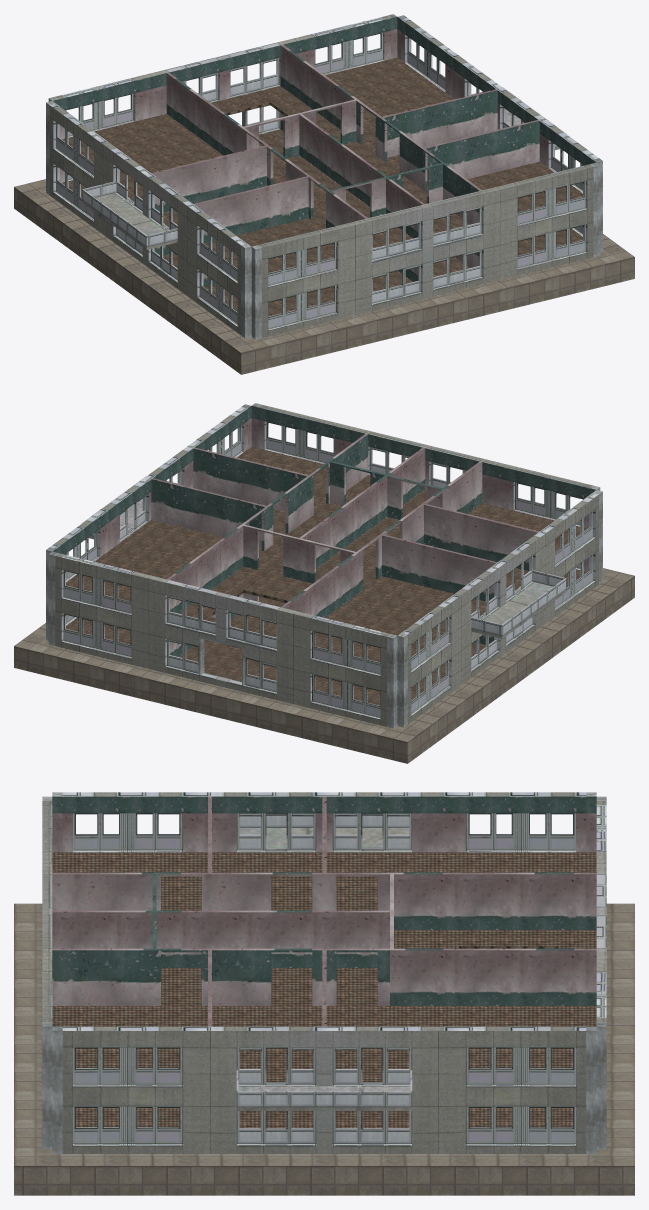
The model's file is BagSS10base_500.fbx.
3 renders of one model, top to bottom at view 1: azimuth 30°, elevation 25°; view 2: azimuth 150°, elevation 25°; view 3: azimuth 270°, elevation 25°, orthographic. The views are drawn at different scales.
Parts seen in each view (by area): view 1: baseMain500, baseWalls500, baseFound500, baseFloor500, baseCrete500; view 2: baseMain500, baseWalls500, baseFloor500, baseFound500, baseCrete500; view 3: baseWalls500, baseMain500, baseFloor500, baseFound500, baseCrete500.
Part boxes in pixels (x1=…): baseMain500: x1=49, y1=15, x2=598, y2=337; baseWalls500: x1=53, y1=17, x2=595, y2=286; baseFound500: x1=14, y1=179, x2=634, y2=374; baseFloor500: x1=62, y1=57, x2=582, y2=316; baseCrete500: x1=46, y1=14, x2=602, y2=339; baseMain500: x1=50, y1=404, x2=599, y2=726; baseWalls500: x1=53, y1=406, x2=595, y2=656; baseFloor500: x1=66, y1=446, x2=586, y2=705; baseFound500: x1=14, y1=568, x2=634, y2=763; baseCrete500: x1=46, y1=403, x2=602, y2=728; baseWalls500: x1=52, y1=796, x2=596, y2=1026; baseMain500: x1=42, y1=792, x2=606, y2=1153; baseFloor500: x1=52, y1=852, x2=596, y2=1128; baseFound500: x1=14, y1=903, x2=634, y2=1195; baseCrete500: x1=42, y1=792, x2=606, y2=1153.
Bounding box in the file's own units: 51.84 × 13.2 × 48.58.
